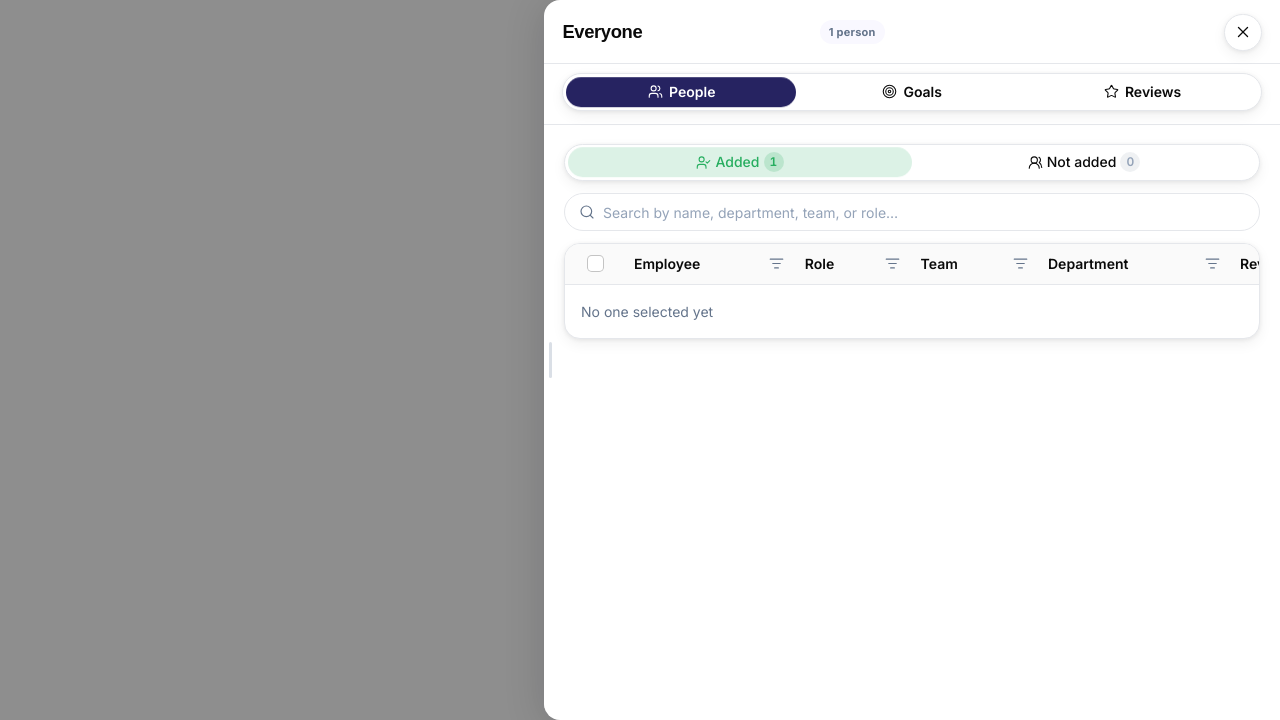
Test case: GroupSettingsView › opens review settings without a full-view link
Click the button "Reviews" at (1142, 92), box [1027,77,1258,107]
(page scrolled)
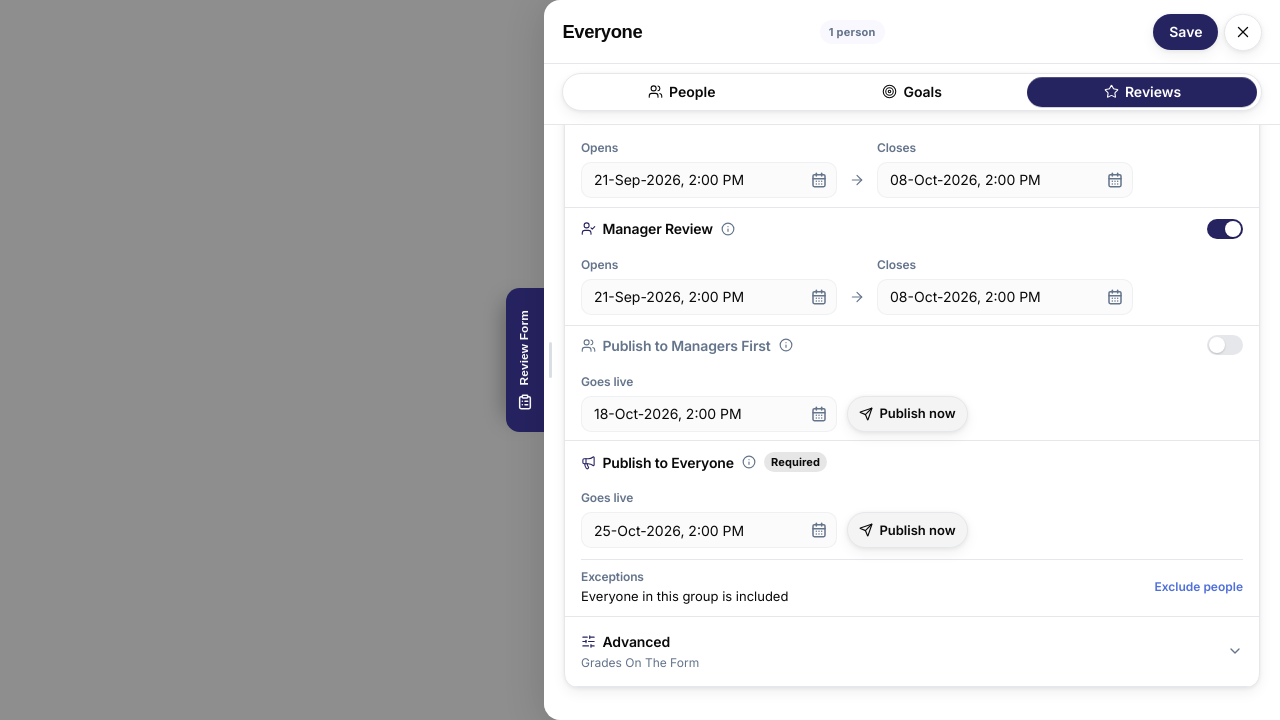
expect the switch named "Enable Manager Review" is shown: met, box [1207,219,1243,239]
Click the button "Advanced Grades On The Form" at (636, 642), box [565,617,1259,687]
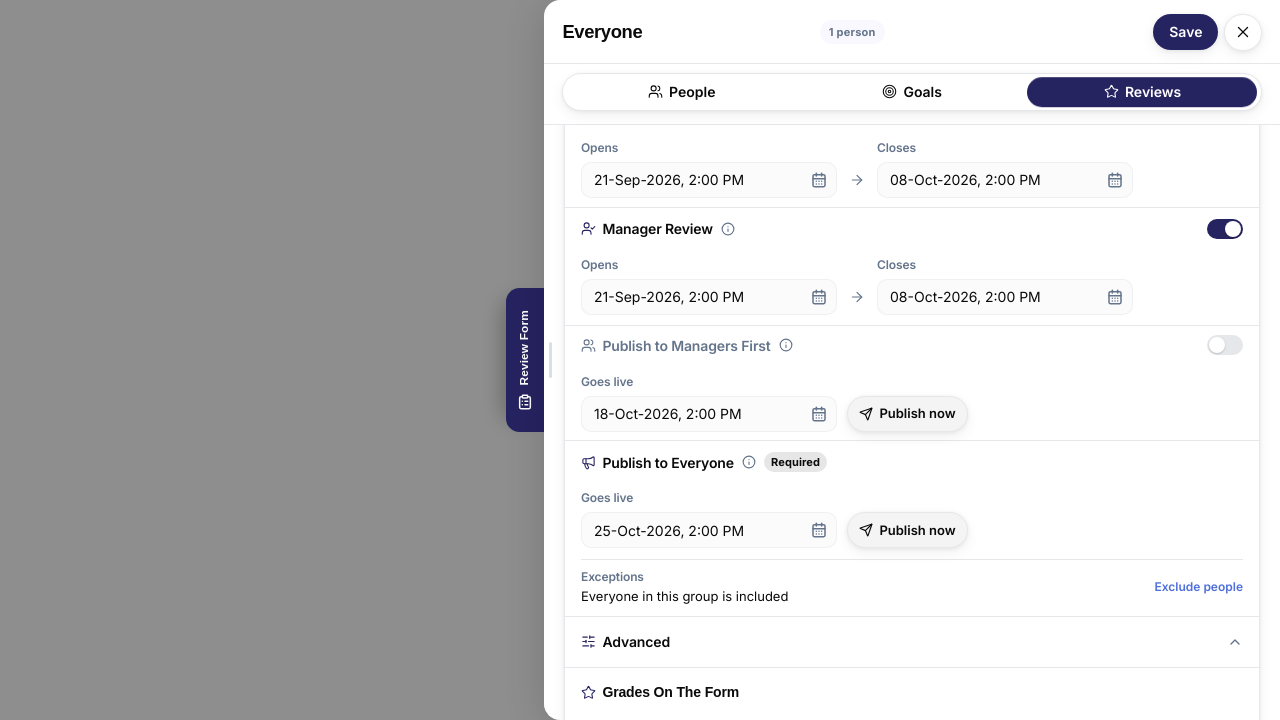
Click the button "Review Form" at (525, 360), box [506,288,544,432]
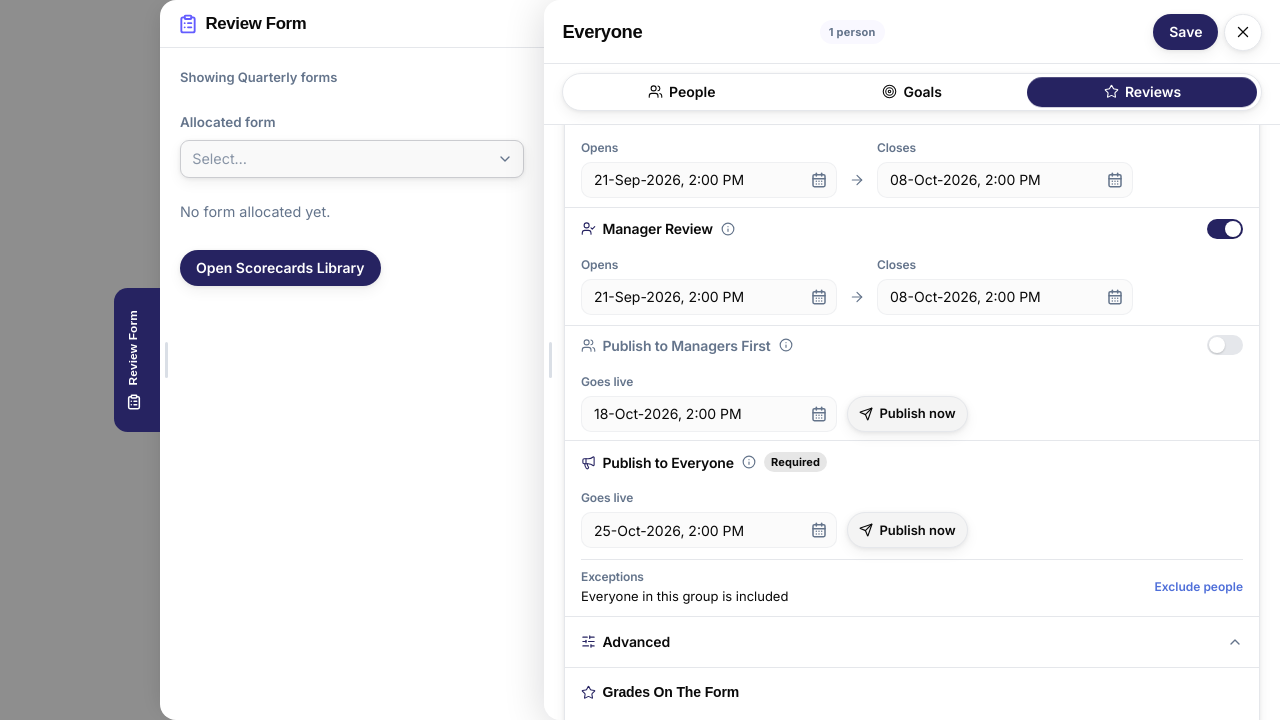
expect the link "Open Scorecards Library" is shown: met, box [180,250,380,286]
expect the button with aria-label "Allocated form" is shown: met, box [180,140,524,178]
